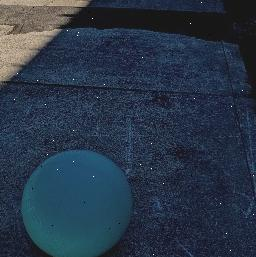algae: (18, 145, 138, 257)
